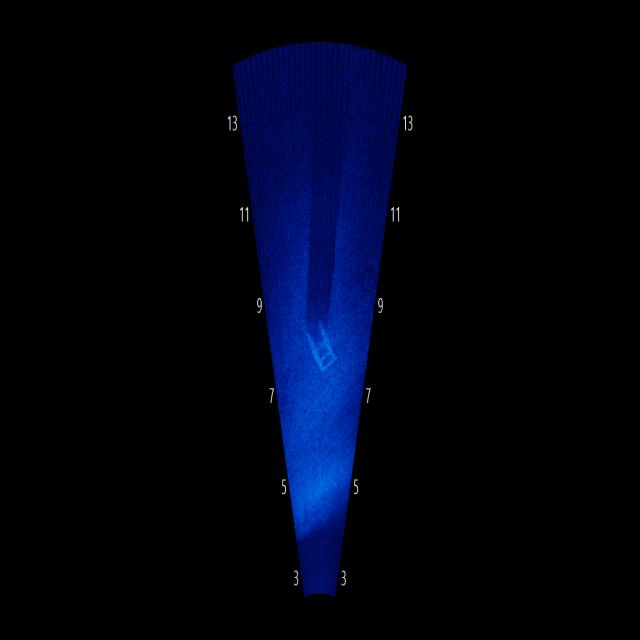square: (303, 310, 343, 385)
